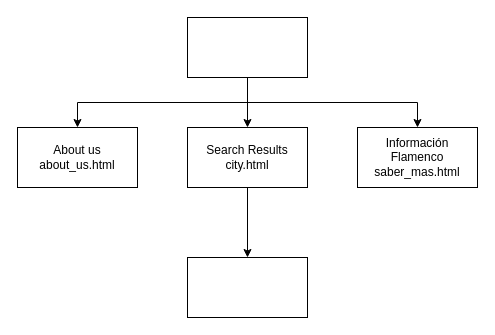
The diagram is 495 pixels wide and 335 high, and some of its shapes have lost their labels. Each missing label, with the centre of its shape:
"Home index.html" belongs at [247,47].
"Información adicional tablao.html" belongs at [247,287].
